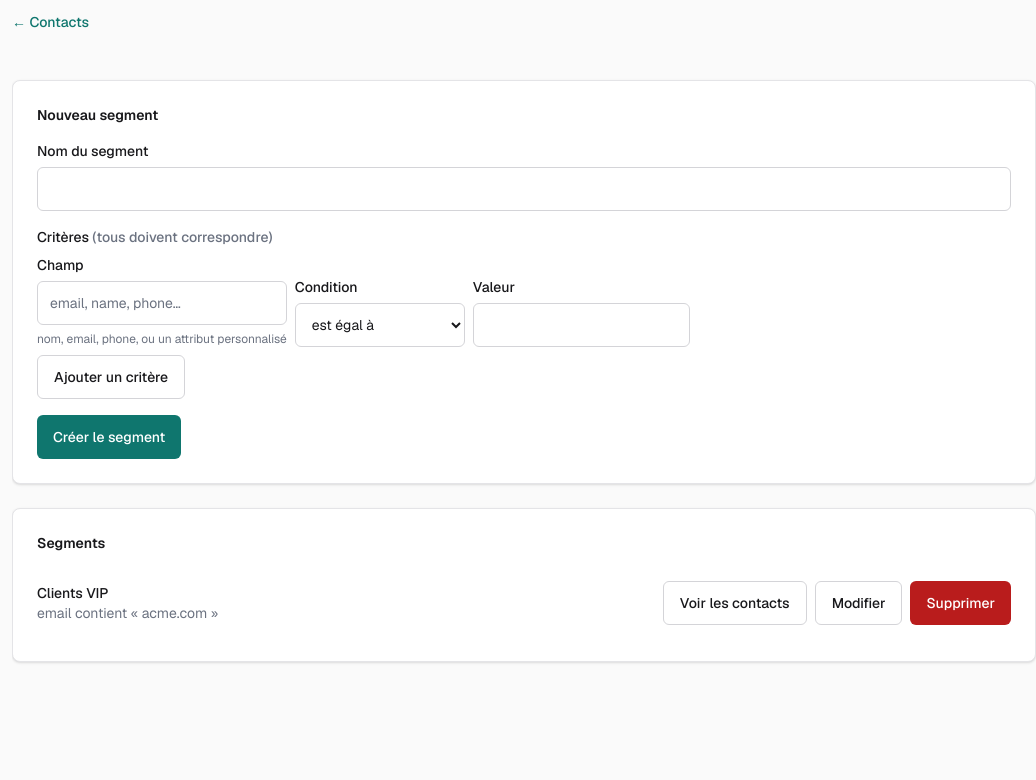
Test case: ContactSegmentsPage › supprime un segment
Expected: the text "Clients VIP" is shown, [37, 584, 108, 602]
Click the button "Supprimer" at (961, 603), box [910, 581, 1011, 625]
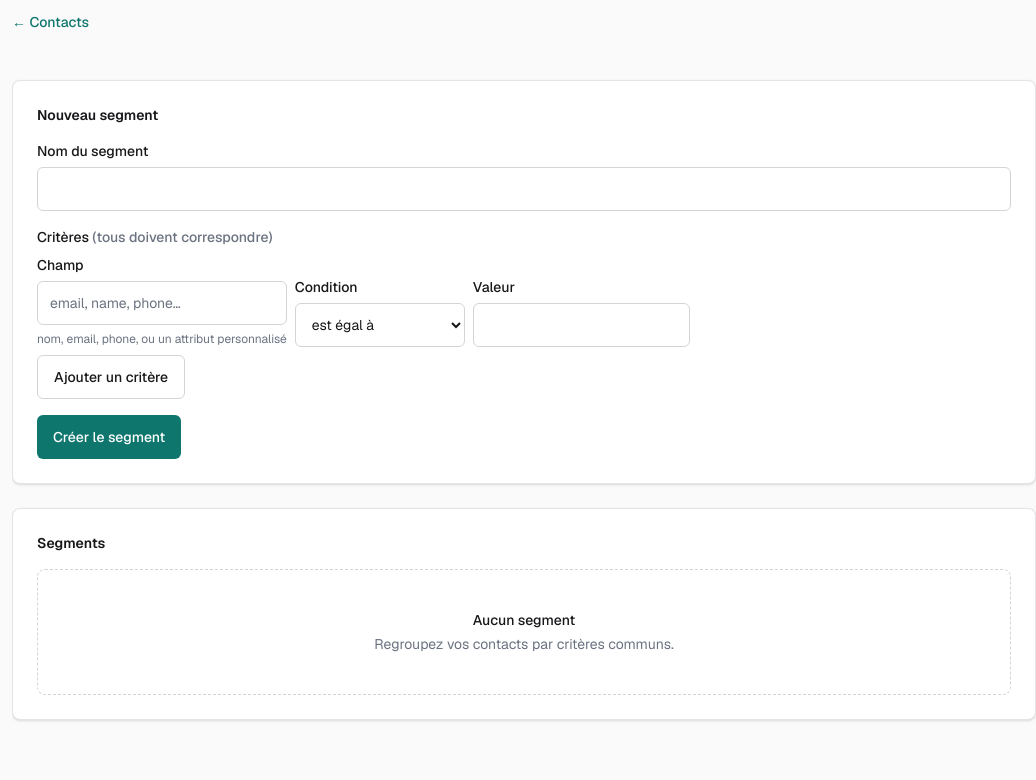
Expected: the text "Clients VIP" is gone
